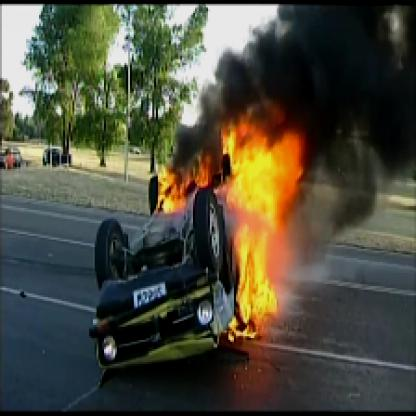Fire: (150, 85, 346, 342)
